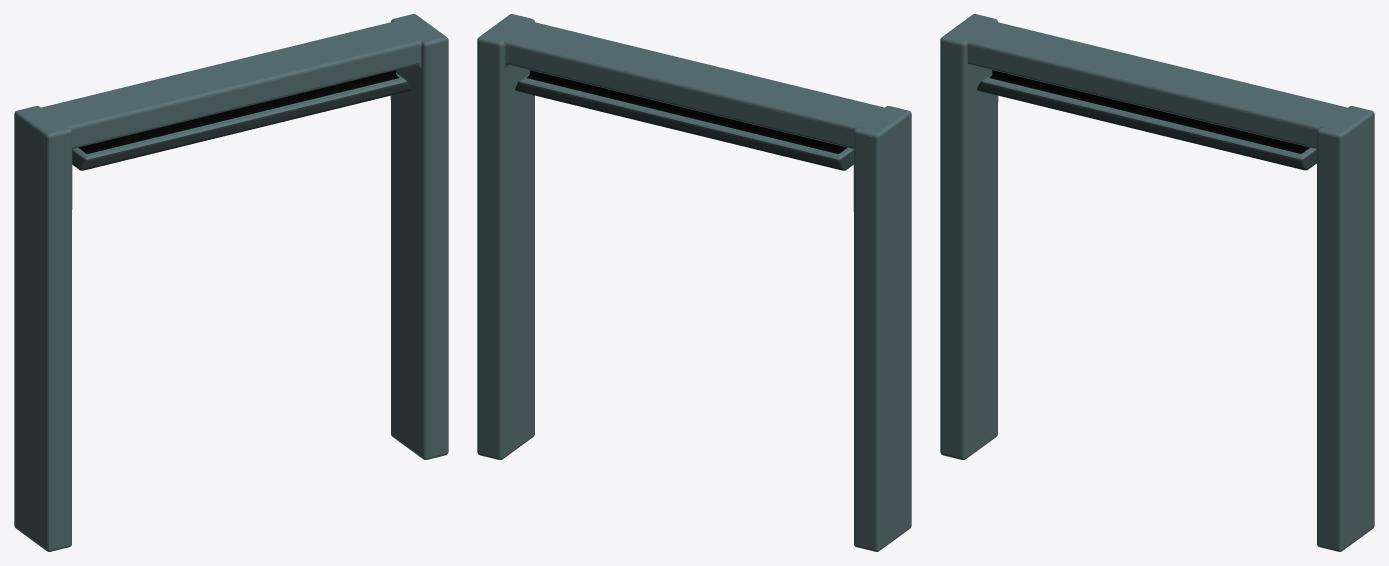
The model's file is laser gate 2.fbx.
3 renders of one model, left to right at view 1: azimuth 30°, elevation 25°; view 2: azimuth 150°, elevation 25°; view 3: azimuth 330°, elevation 25°, orthographic.
Parts seen in each view (by area): view 1: laser gate.001; view 2: laser gate.001; view 3: laser gate.001.
Part boxes in pixels (x1,y1,x2,y2): laser gate.001: [14, 14, 448, 551]; laser gate.001: [477, 14, 911, 551]; laser gate.001: [940, 14, 1374, 551].
Bounding box in the file's own units: 310 × 308 × 46.25.
